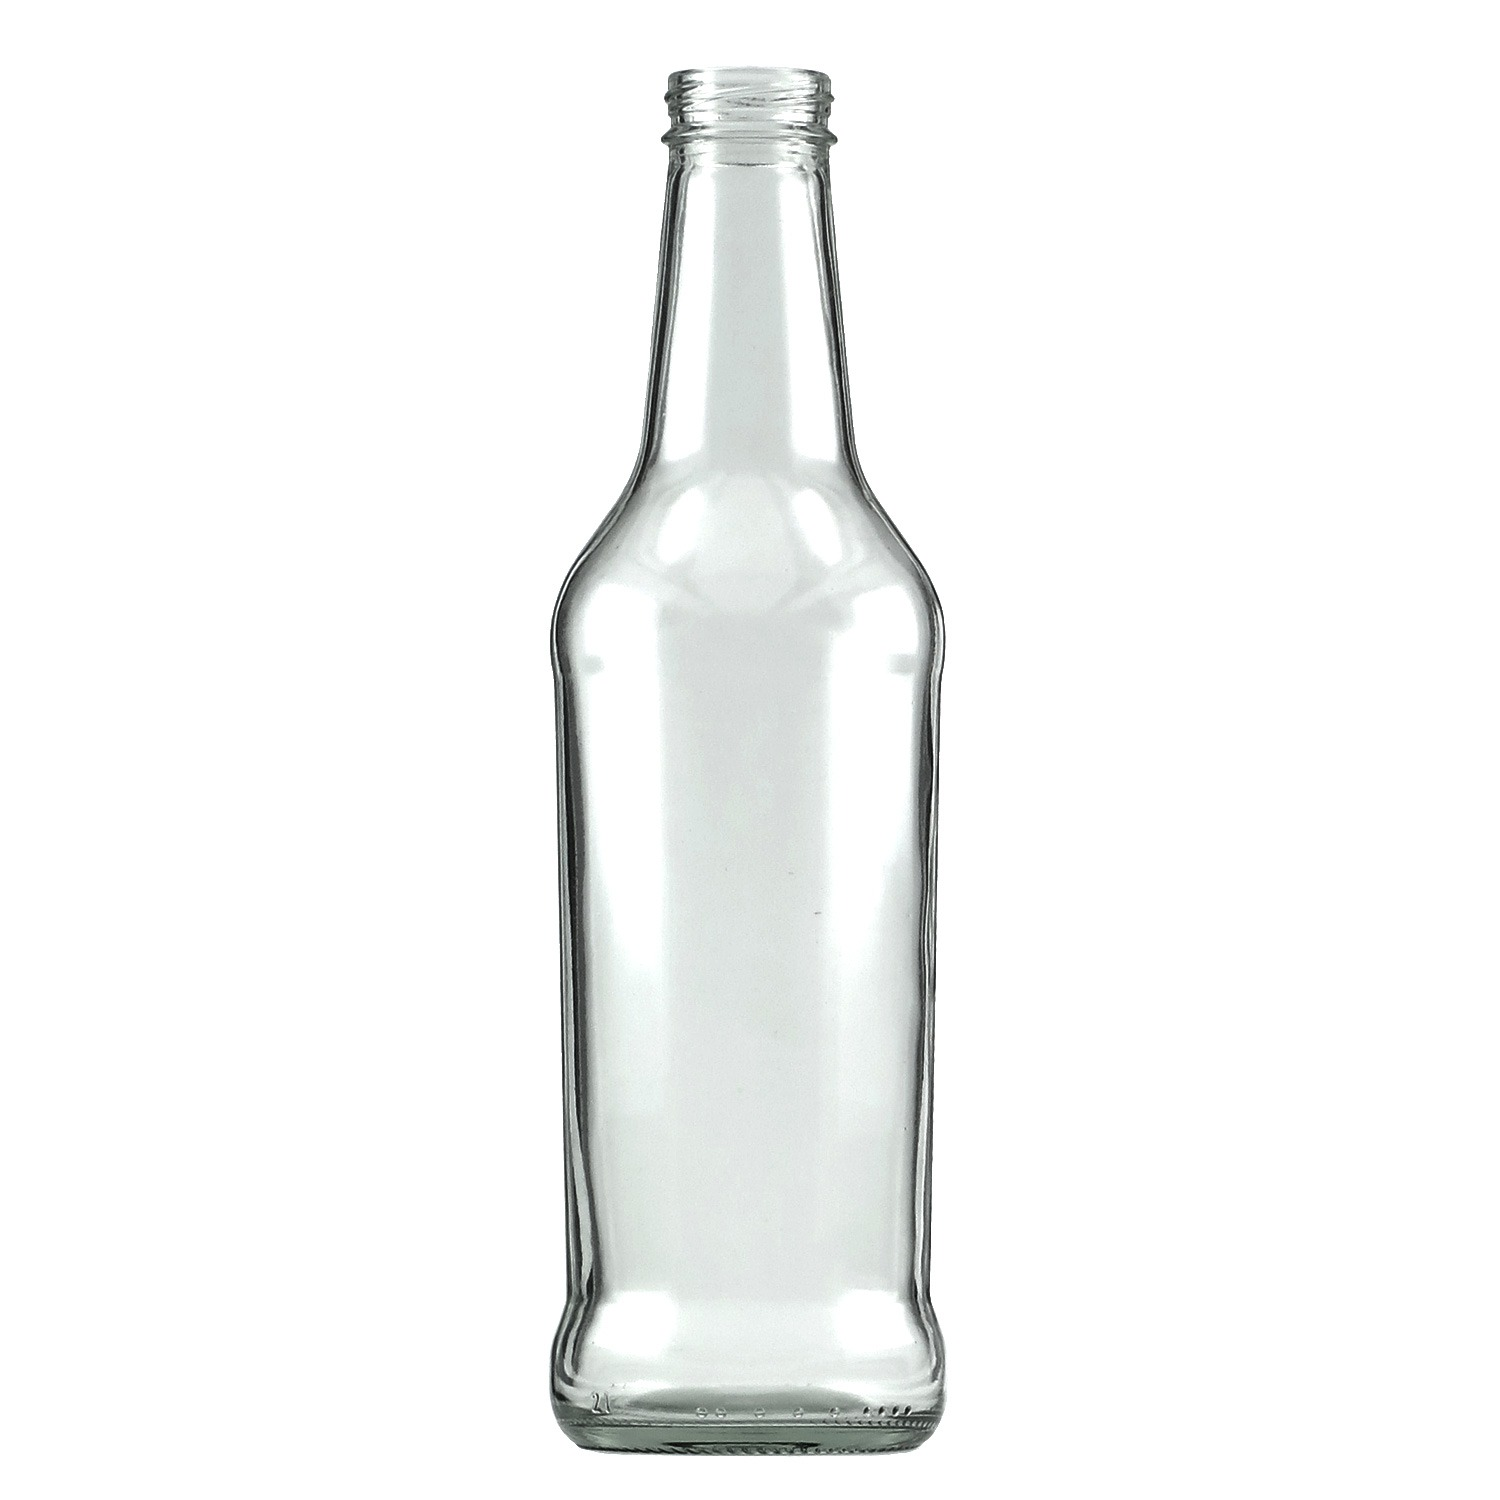container: (530, 45, 967, 1478)
